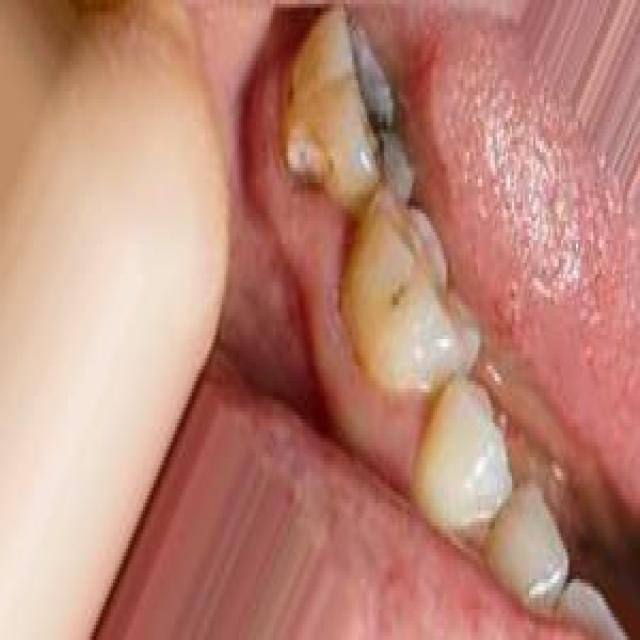caries: (343, 29, 402, 184), (280, 112, 330, 205)
